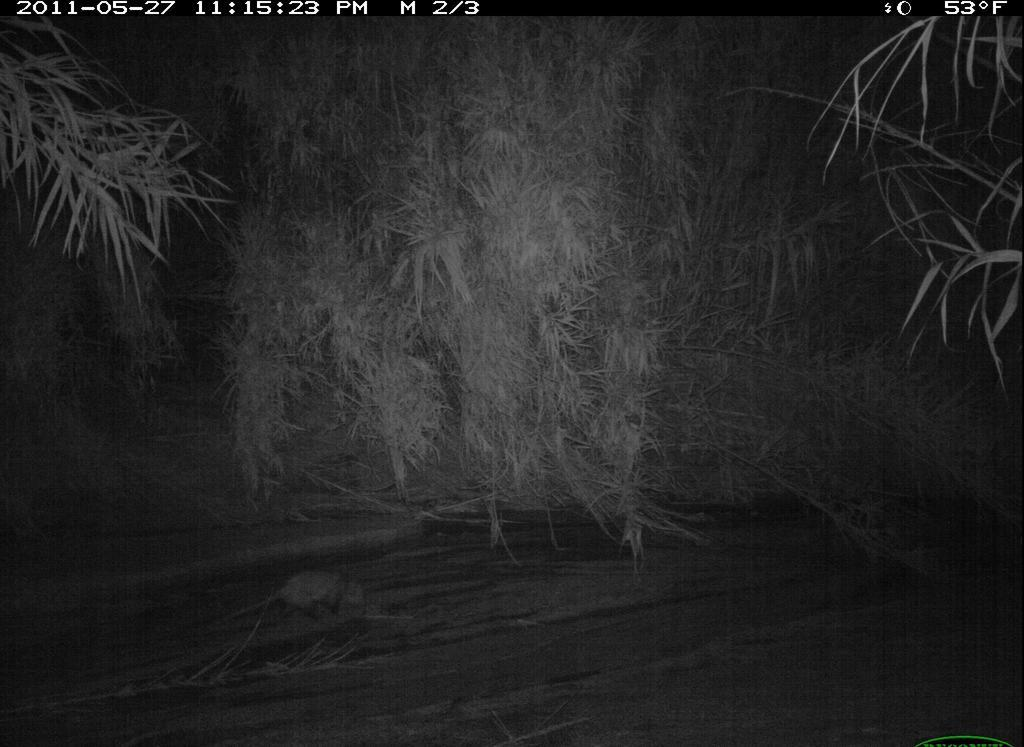opossum: (213, 552, 379, 630)
